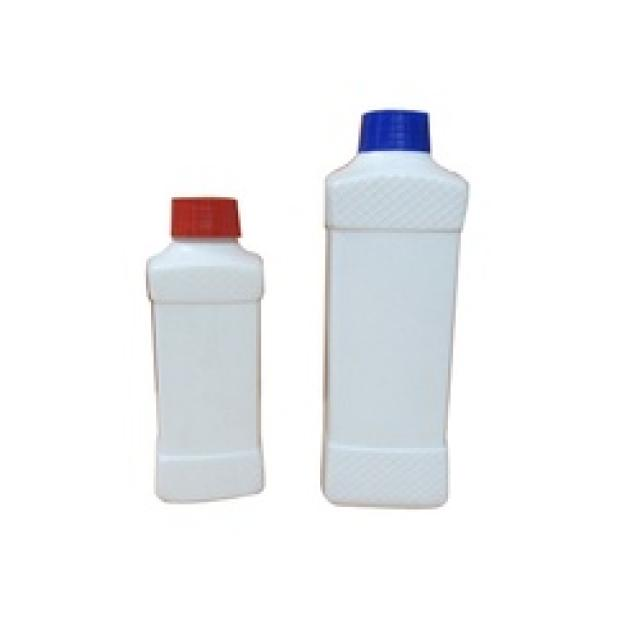plastic_bottle: (144, 193, 266, 503)
